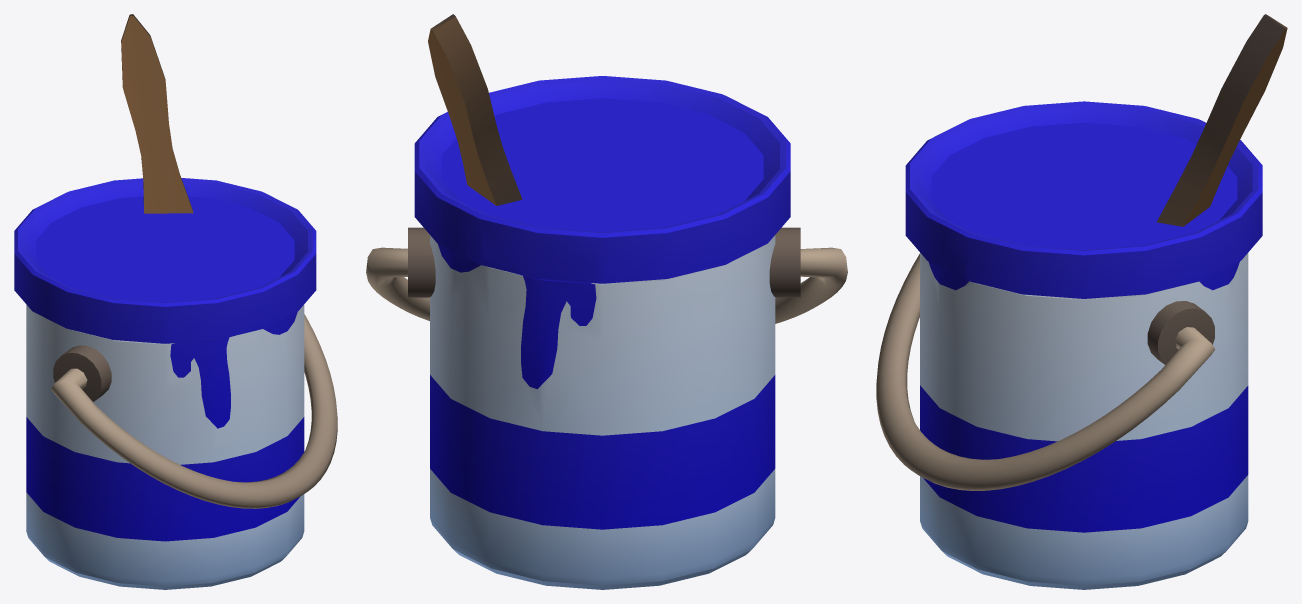
File: Blue_Bucket.FBX
The picture shows the model from 3 angles, left to right: view 1: azimuth 30°, elevation 25°; view 2: azimuth 150°, elevation 25°; view 3: azimuth 270°, elevation 25°; orthographic projection. The views are drawn at different scales.
Visible parts, largest first — view 1: Blue_Bucket; view 2: Blue_Bucket; view 3: Blue_Bucket.
Boxes of the visible parts, left/top/right/bottom form: Blue_Bucket: left=14, top=14, right=337, bottom=589; Blue_Bucket: left=366, top=14, right=847, bottom=589; Blue_Bucket: left=876, top=14, right=1287, bottom=589.
Size of the model in its own units: 370 by 510 by 354.
